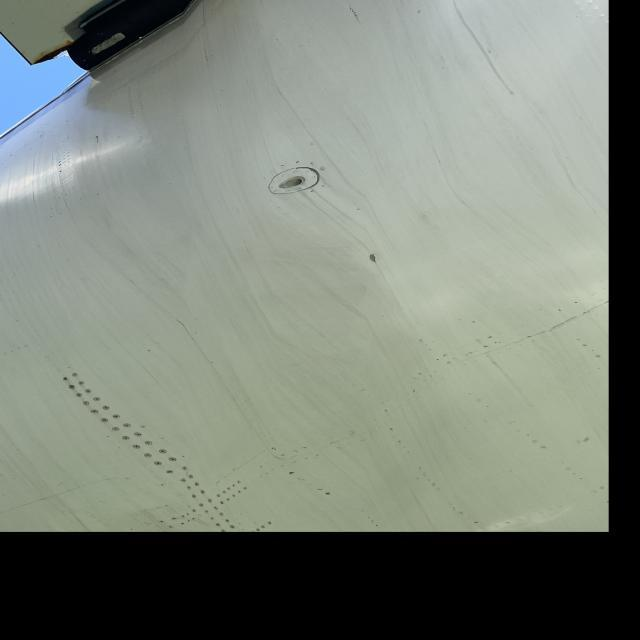crack: (169, 318, 203, 342), (360, 251, 384, 269)
